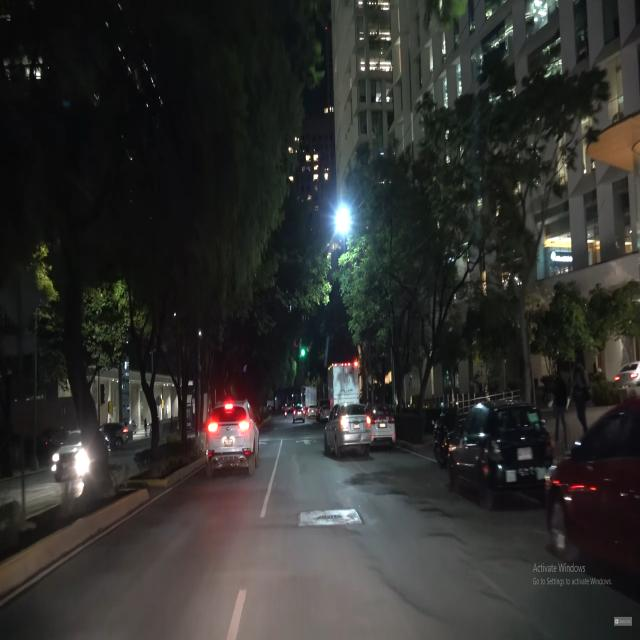headlights: (50, 443, 93, 480)
